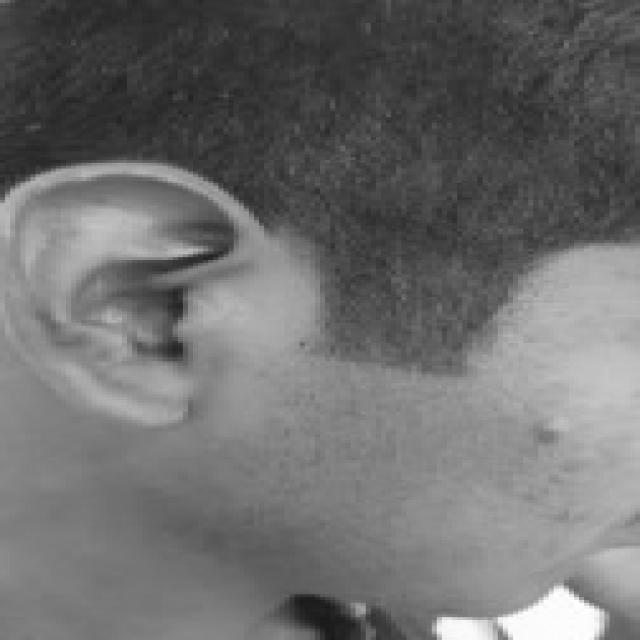ear: (5, 160, 254, 420)
